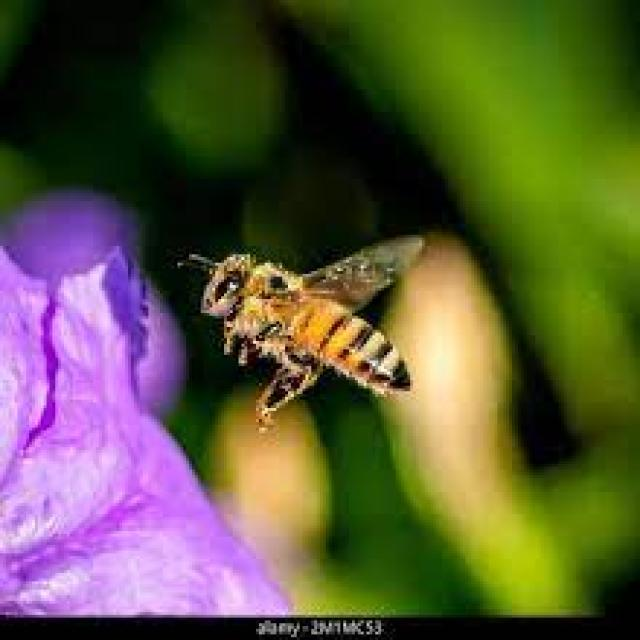Bees: (173, 238, 430, 424)
